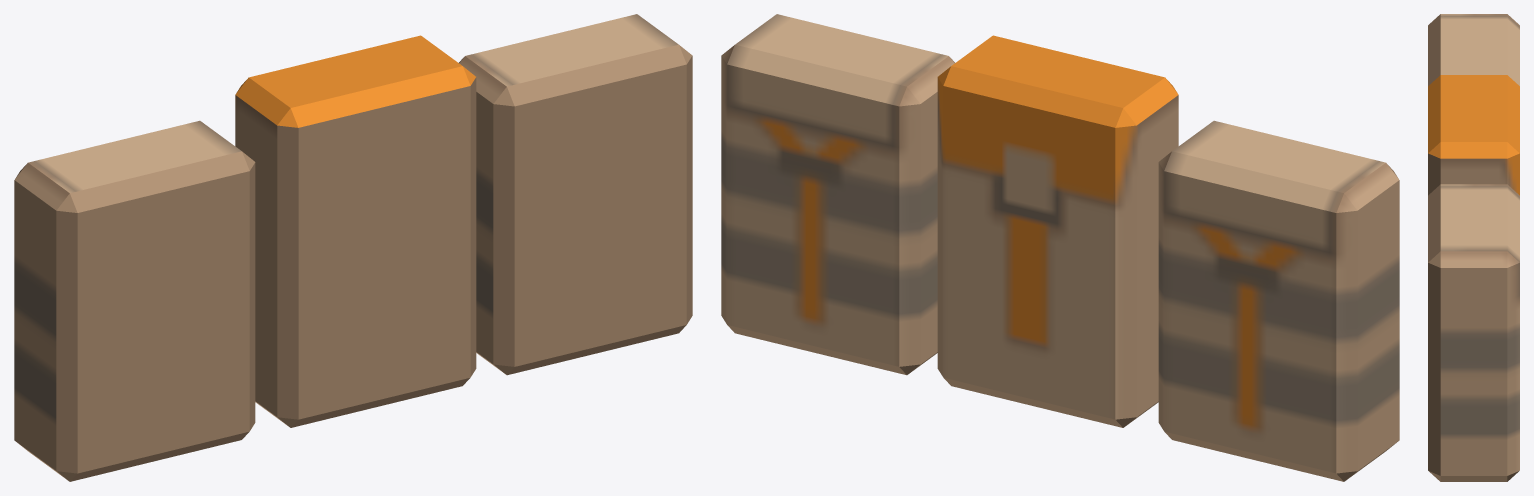
File: back_acc_17.FBX
The picture shows the model from 3 angles, left to right: view 1: azimuth 30°, elevation 25°; view 2: azimuth 150°, elevation 25°; view 3: azimuth 270°, elevation 25°; orthographic projection. The views are drawn at different scales.
Parts seen in each view (by area): view 1: back_acc_17; view 2: back_acc_17; view 3: back_acc_17.
Boxes of the visible parts, x1=… form: back_acc_17: x1=14, y1=14, x2=692, y2=481; back_acc_17: x1=721, y1=14, x2=1399, y2=481; back_acc_17: x1=1428, y1=14, x2=1519, y2=481.
Size of the model in its own units: 19.6 by 9.42 by 3.07.
